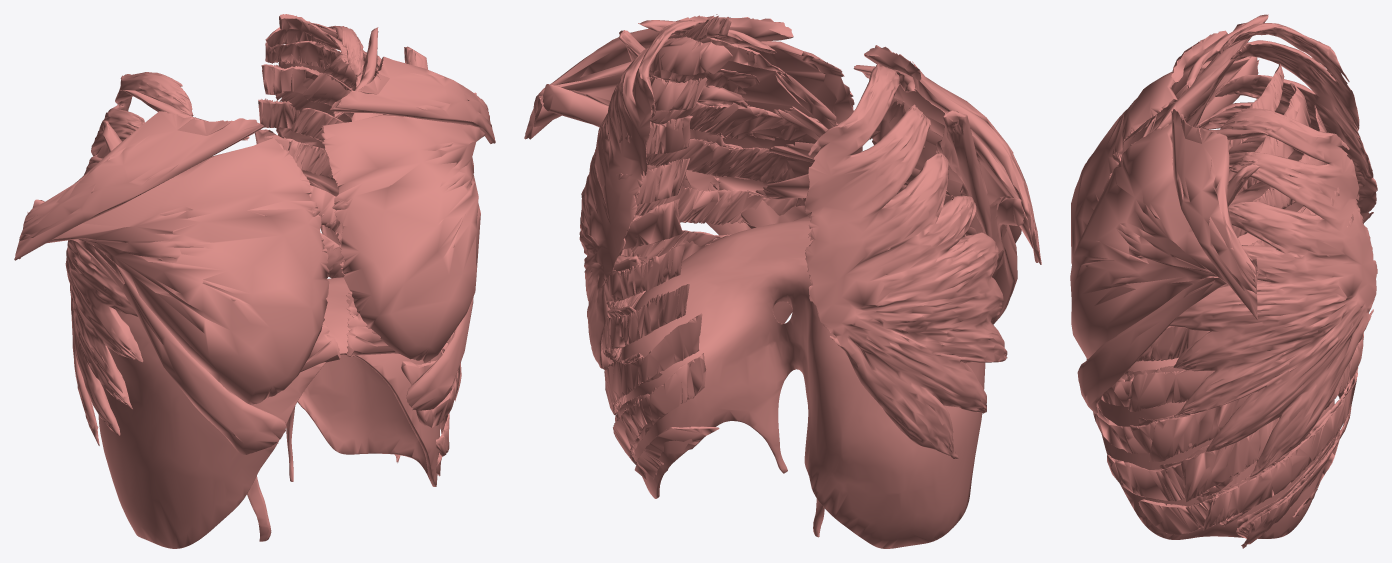
File: muscles-thorax.lo.glb
3 renders of one model, left to right at view 1: azimuth 30°, elevation 25°; view 2: azimuth 150°, elevation 25°; view 3: azimuth 270°, elevation 25°, orthographic. The views are drawn at different scales.
Parts seen in each view (by area): view 1: FJ1464, FJ3131, FJ1464M, FJ1459, FJ1447, FJ1446, FJ1447M, FJ1451M, FJ1454M, FJ1459M, FJ1446M, FJ1455M (+4 smaller); view 2: FJ3131, FJ1459, FJ1451M, FJ1459M, FJ1454M, FJ1464M, FJ1464, FJ1447, FJ1455M, FJ1447M, FJ1461M, FJ1456 (+5 smaller); view 3: FJ1459M, FJ1451M, FJ1464M, FJ1459, FJ1447M, FJ1455M, FJ3131, FJ1464, FJ1446M, FJ1454M, FJ1456, FJ1447 (+4 smaller).
Part boxes in pixels (x1,y1,x2,y2): FJ1464: [27, 137, 329, 404]; FJ3131: [98, 277, 441, 548]; FJ1464M: [321, 114, 485, 362]; FJ1459: [65, 72, 192, 445]; FJ1447: [14, 111, 264, 260]; FJ1446: [32, 199, 286, 454]; FJ1447M: [330, 56, 495, 143]; FJ1451M: [254, 14, 461, 462]; FJ1454M: [288, 54, 451, 392]; FJ1459M: [275, 25, 443, 354]; FJ1446M: [406, 92, 476, 411]; FJ1455M: [296, 73, 458, 476]; FJ3131: [621, 220, 985, 548]; FJ1459: [804, 64, 1007, 459]; FJ1451M: [602, 17, 784, 464]; FJ1459M: [579, 20, 715, 370]; FJ1454M: [607, 102, 780, 462]; FJ1464M: [533, 41, 862, 228]; FJ1464: [853, 65, 1033, 272]; FJ1447: [864, 45, 1041, 264]; FJ1455M: [608, 102, 838, 480]; FJ1447M: [524, 14, 793, 139]; FJ1461M: [747, 71, 837, 221]; FJ1456: [935, 110, 992, 237]; FJ1459M: [1169, 108, 1377, 477]; FJ1451M: [1128, 63, 1363, 548]; FJ1464M: [1070, 123, 1259, 358]; FJ1459: [1195, 23, 1377, 223]; FJ1447M: [1171, 109, 1257, 320]; FJ1455M: [1086, 206, 1353, 538]; FJ3131: [1098, 233, 1334, 539]; FJ1464: [1071, 56, 1258, 263]; FJ1446M: [1077, 256, 1258, 414]; FJ1454M: [1117, 159, 1351, 527]; FJ1456: [1156, 22, 1251, 142]; FJ1447: [1171, 30, 1243, 82].
Bounding box in the file's own units: 0.3885 × 0.3795 × 0.2241.
